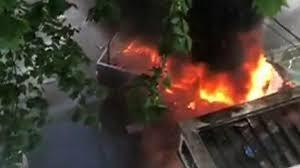fire: (189, 68, 236, 111), (243, 48, 278, 100), (164, 68, 196, 94), (130, 44, 161, 67)
